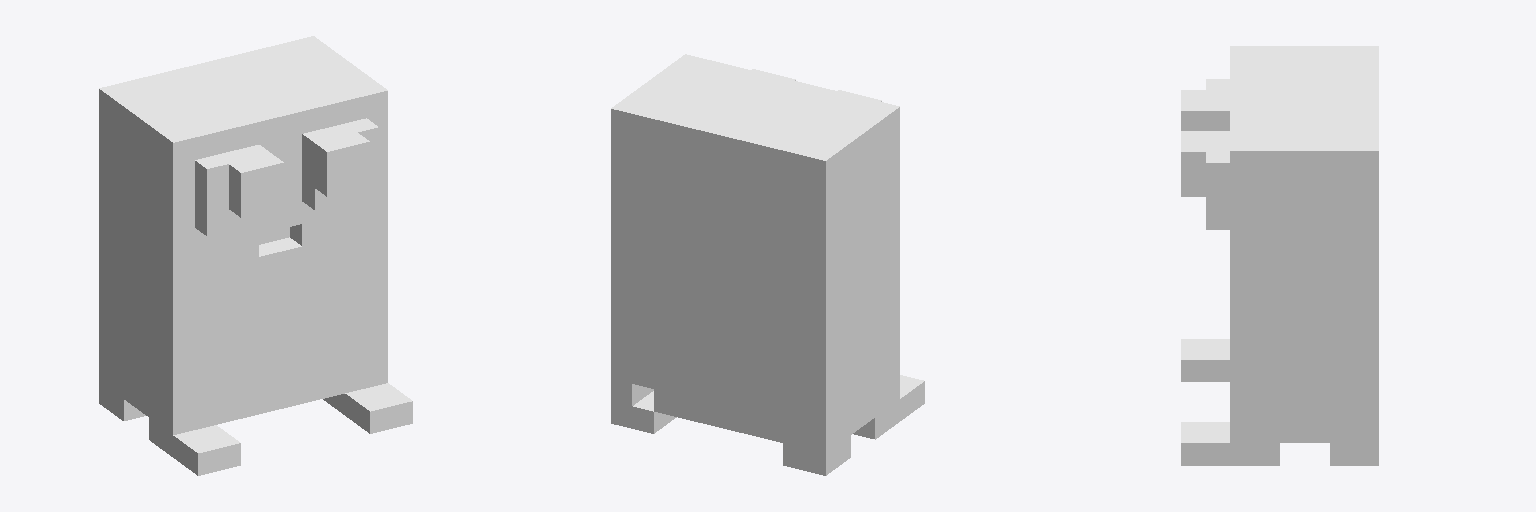
Rendered from minions.obj.
3 views of the same model, side by side, from view 1: azimuth 30°, elevation 25°; view 2: azimuth 150°, elevation 25°; view 3: azimuth 270°, elevation 25° (orthographic).
Visible parts, largest first — view 1: minions; view 2: minions; view 3: minions.
Part boxes in pixels (left/top/right/bottom): minions: left=99, top=36, right=412, bottom=475; minions: left=611, top=54, right=924, bottom=475; minions: left=1181, top=46, right=1378, bottom=465.
Bounding box in the file's own units: 10 × 14 × 8.